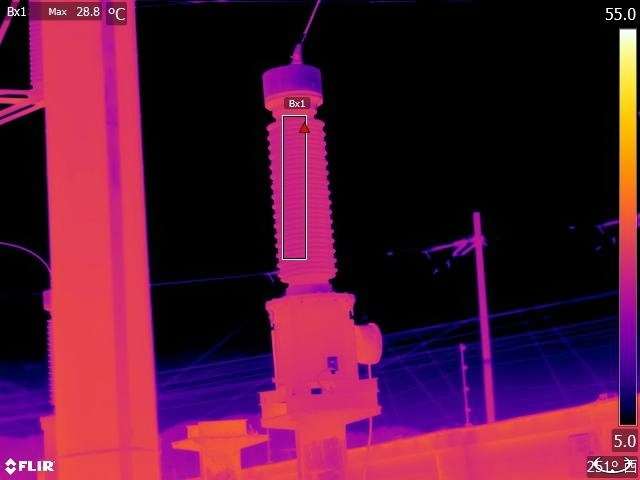potential transformer: (255, 51, 388, 388)
